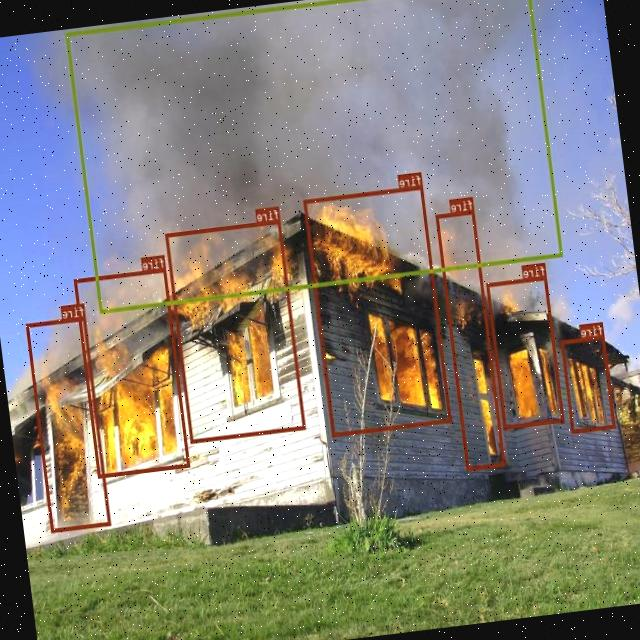fire: (304, 184, 452, 436), (165, 218, 306, 442), (74, 266, 191, 478), (26, 316, 111, 532), (436, 208, 506, 470), (486, 275, 564, 428), (561, 334, 615, 432)
smoke: (66, 0, 563, 312)
